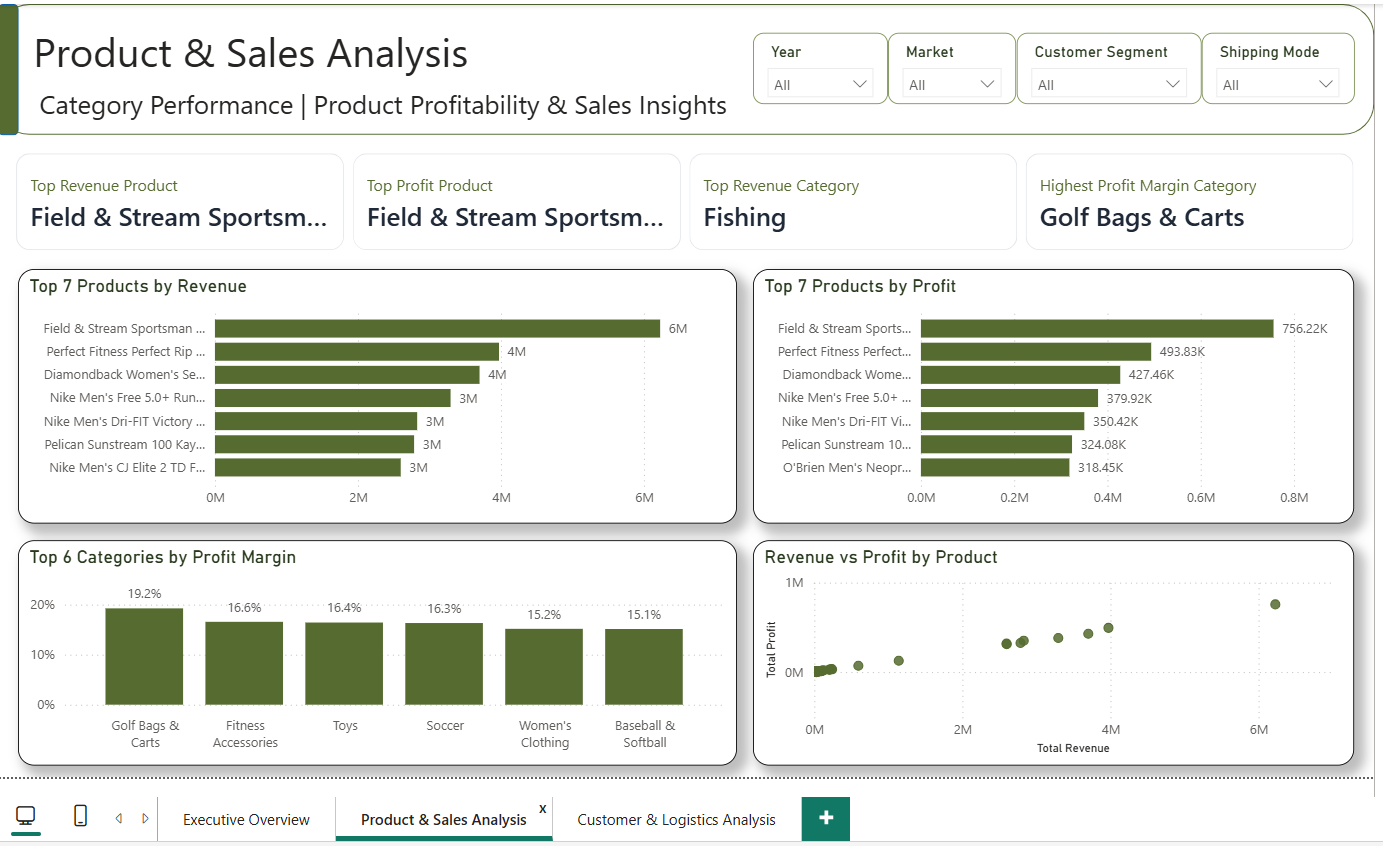

This screenshot's page, from the dashboard's own definition file:
{"tool":"powerbi","page":{"name":"Product & Sales Analysis","canvas":[1280,720],"ordinal":1},"visuals":[{"type":"textbox","box":[33.8,71.7,668.6,51.4],"z":0},{"type":"cardVisual","fields":{"Data":["Measure.Top Revenue Product","Measure.Top Profit Product","Measure.Top Revenue Category","Measure.Highest Profit Margin Category"]},"box":[0,122.1,1280.3,124.9],"z":1000},{"type":"textbox","box":[28.4,13.5,538.6,66.3],"z":2000},{"type":"shape","box":[0,0,19.2,122.1],"z":3000},{"type":"shape","box":[0,0,1280.3,121.8],"z":4000},{"type":"clusteredBarChart","title":"Top 7 Products by Revenue","fields":{"Category":["Fact_supply_chain.Product_Name"],"Y":["Measure.Total Revenue"]},"box":[18.9,246.3,668.6,236.8],"z":5000},{"type":"clusteredBarChart","title":"Top 7 Products by Profit","fields":{"Category":["Fact_supply_chain.Product_Name"],"Y":["Measure.Total Profit"]},"box":[702.4,246.3,558.9,236.8],"z":6000},{"type":"clusteredColumnChart","title":"Top 6 Categories by Profit Margin","fields":{"Category":["Fact_supply_chain.Category_Name"],"Y":["Measure.Profit Margin%"]},"box":[18.9,499.4,668.6,209.8],"z":7000},{"type":"scatterChart","title":"Revenue vs Profit by Product","fields":{"X":["Measure.Total Revenue"],"Y":["Measure.Total Profit"],"Category":["Fact_supply_chain.Product_Name"]},"box":[702.4,499.4,558.9,209.8],"z":8000},{"type":"slicer","fields":{"Values":["Fact_supply_chain.Shipping_Mode"]},"box":[1119.2,27.1,142.1,66.3],"z":9000},{"type":"slicer","fields":{"Values":["Fact_supply_chain.Customer_Segment"]},"box":[947.3,27.1,171.9,66.3],"z":10000},{"type":"slicer","fields":{"Values":["Fact_supply_chain.Market"]},"box":[828.3,27.1,119.1,66.3],"z":11000},{"type":"slicer","fields":{"Values":["Dim_Date.Year"]},"box":[702.4,27.1,125.9,66.3],"z":12000}]}

Visuals, with their boxes on the page's 1280x720 design canvas (x1, y1, x2, y2). These are canvas units, not pixel positions in the 1383x846 screenshot, which may show the page scaled, cropped or inside an application window:
textbox: <box>34,72,702,123</box>
cardVisual - Measure.Top Revenue Product x Measure.Top Profit Product: <box>0,122,1280,247</box>
textbox: <box>28,14,567,80</box>
shape: <box>0,0,19,122</box>
shape: <box>0,0,1280,122</box>
"Top 7 Products by Revenue" clusteredBarChart: <box>19,246,688,483</box>
"Top 7 Products by Profit" clusteredBarChart: <box>702,246,1261,483</box>
"Top 6 Categories by Profit Margin" clusteredColumnChart: <box>19,499,688,709</box>
"Revenue vs Profit by Product" scatterChart: <box>702,499,1261,709</box>
slicer - Fact_supply_chain.Shipping_Mode: <box>1119,27,1261,93</box>
slicer - Fact_supply_chain.Customer_Segment: <box>947,27,1119,93</box>
slicer - Fact_supply_chain.Market: <box>828,27,947,93</box>
slicer - Dim_Date.Year: <box>702,27,828,93</box>
